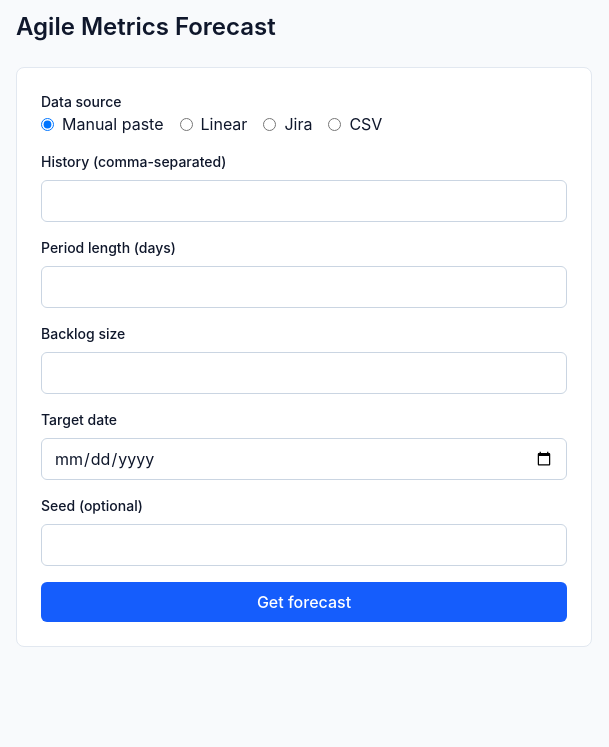
App - Linear data-source toggle (spec 006) › switches back to the history field when manual paste is reselected
The width and height of the screenshot is (609, 747).
Step 1. Click the radio button labelled "Linear" → (186, 124), box [180,118,192,130]
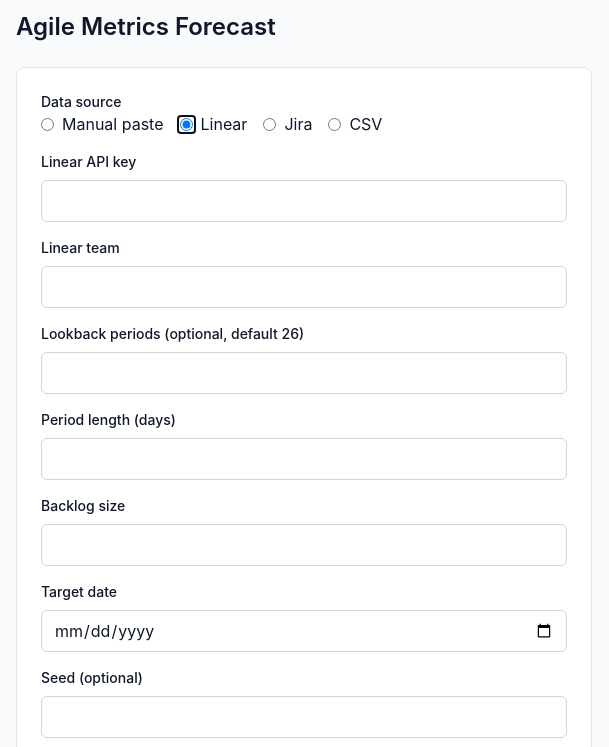
Step 2. Click the radio button labelled "Manual paste" → (48, 124), box [41,118,54,130]
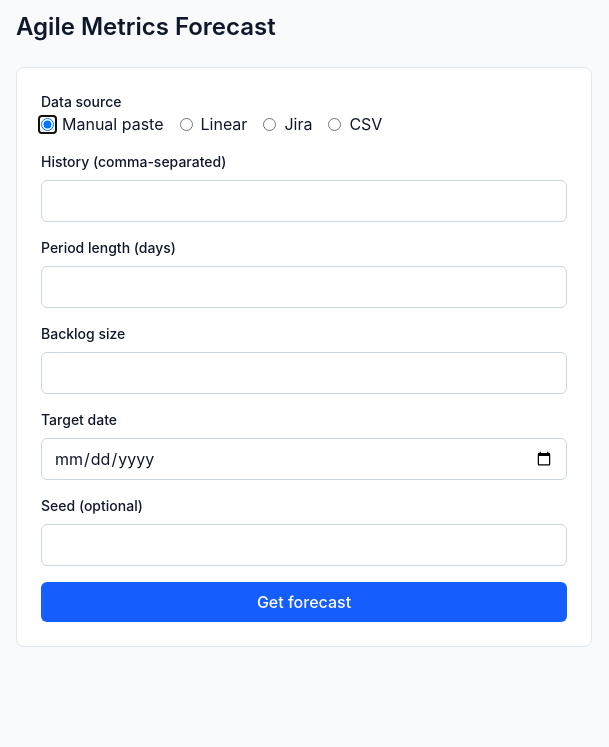
Expected: the field labelled "History (comma-separated)" is shown, [41,180,567,222]
Expected: the label labelled "Linear API key" is gone
